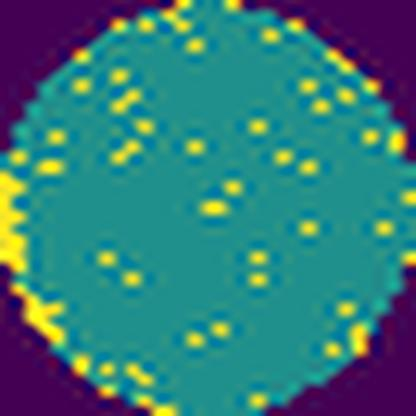Edge-Loc: (9, 280, 67, 348), (0, 163, 29, 276)
